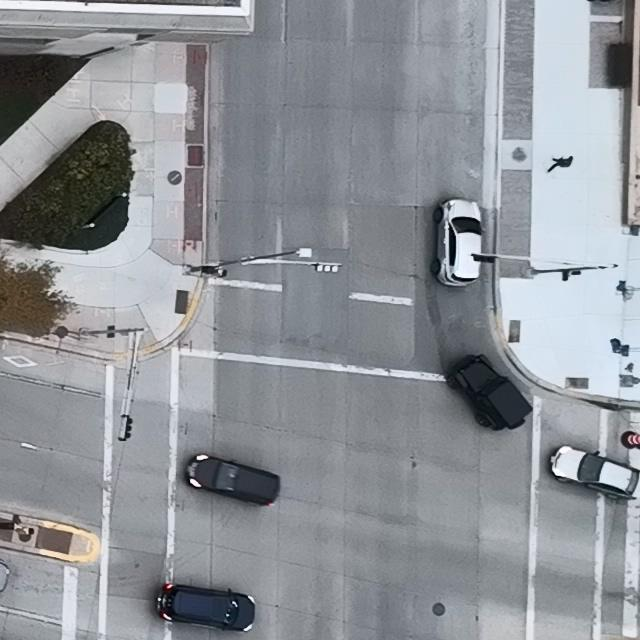car: (446, 355, 534, 430), (549, 444, 640, 500), (185, 454, 281, 506), (430, 198, 486, 287), (155, 583, 256, 631)
